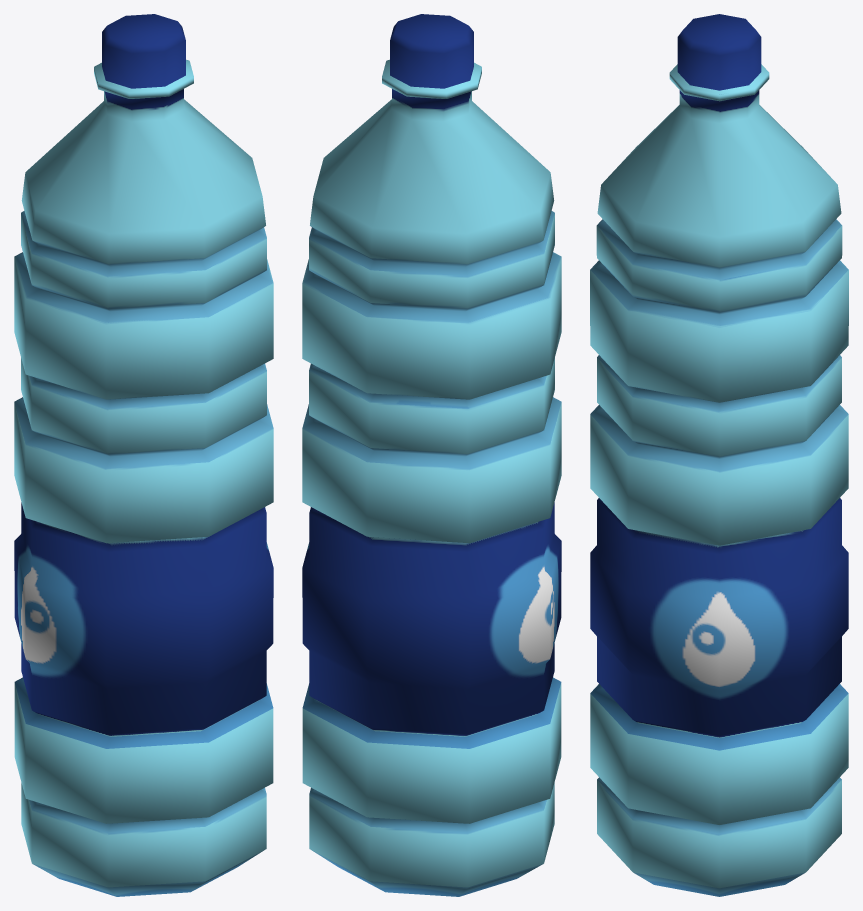
The model's file is bigbottle.fbx.
3 renders of one model, left to right at view 1: azimuth 30°, elevation 25°; view 2: azimuth 150°, elevation 25°; view 3: azimuth 270°, elevation 25°, orthographic.
Parts seen in each view (by area): view 1: Cylinder.002; view 2: Cylinder.002; view 3: Cylinder.002.
Boxes of the visible parts, bbox=[...] form: Cylinder.002: bbox=[14, 14, 273, 896]; Cylinder.002: bbox=[302, 14, 561, 896]; Cylinder.002: bbox=[590, 14, 848, 896].
Size of the model in its own units: 8.96 by 29.98 by 8.52.
